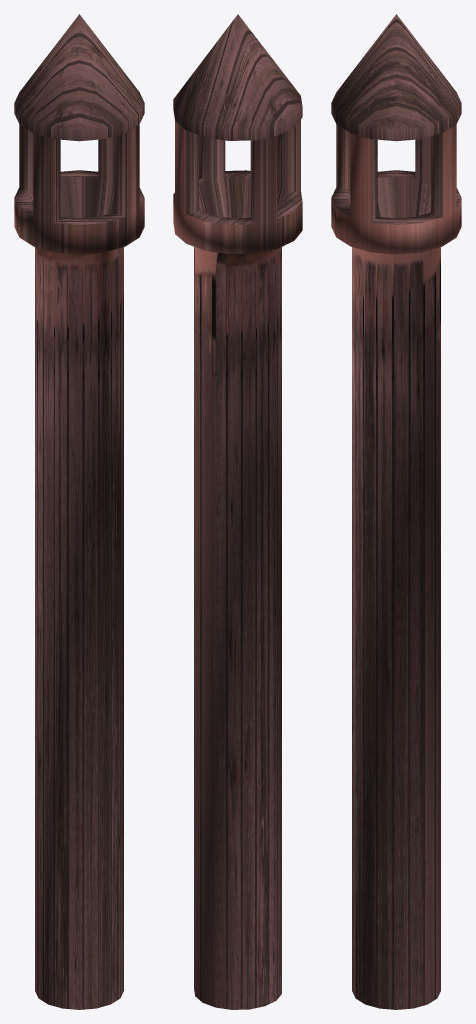
Rendered from Chamine2.fbx.
The picture shows the model from 3 angles, left to right: view 1: azimuth 90°, elevation 25°; view 2: azimuth 150°, elevation 25°; view 3: azimuth 270°, elevation 25°; orthographic projection.
Visible parts, largest first — view 1: Chamine2; view 2: Chamine2; view 3: Chamine2.
Part boxes in pixels (<box>): Chamine2: <box>14,14,144,1009</box>; Chamine2: <box>173,14,302,1009</box>; Chamine2: <box>331,14,461,1009</box>.
Size of the model in its own units: 58.17 by 58.17 by 482.
